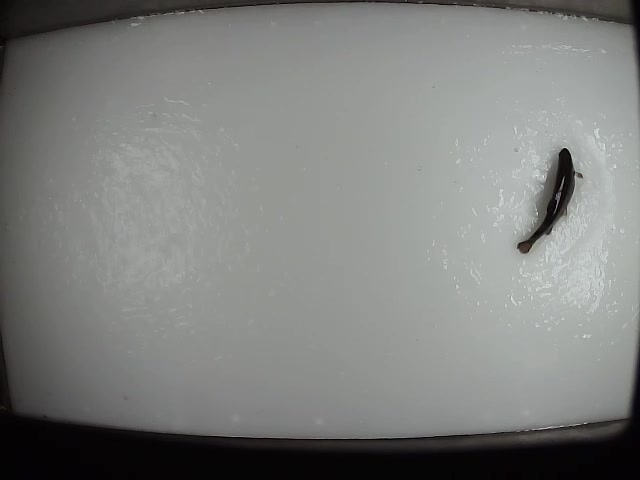fish: (513, 144, 587, 254)
